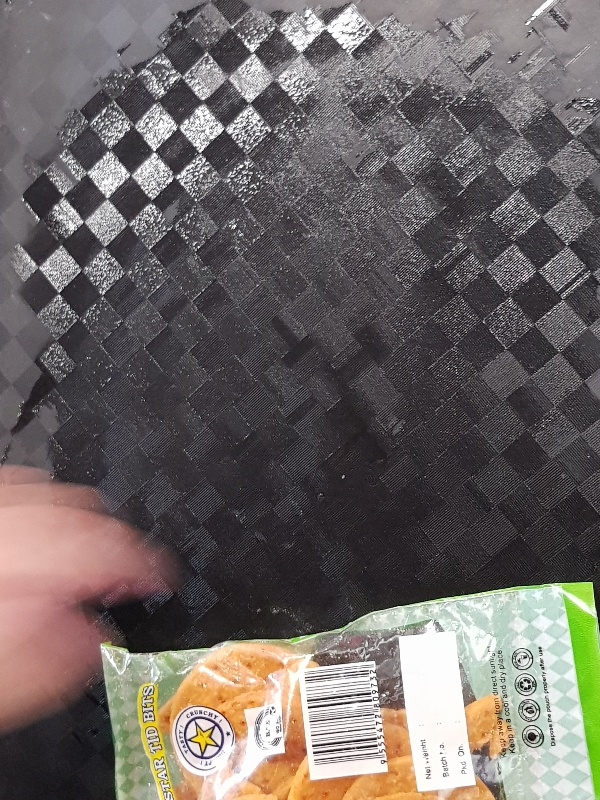Star Tidbits 'O' Ring: (99, 580, 599, 799)
